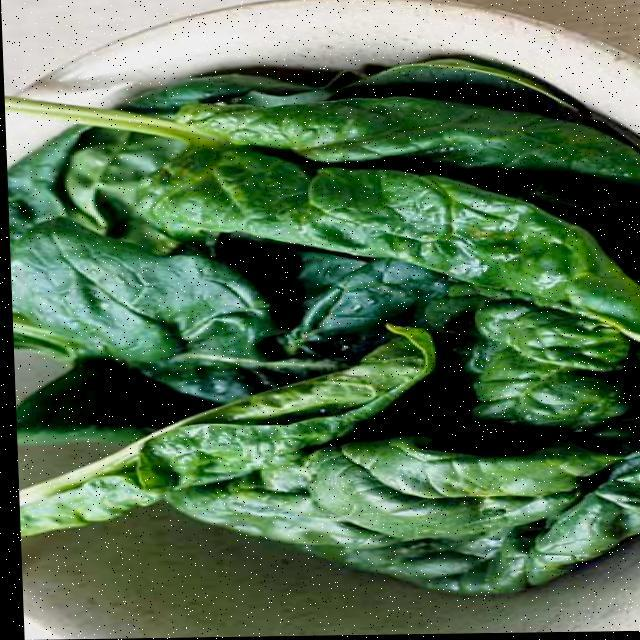Spinach: (1, 33, 640, 603)
